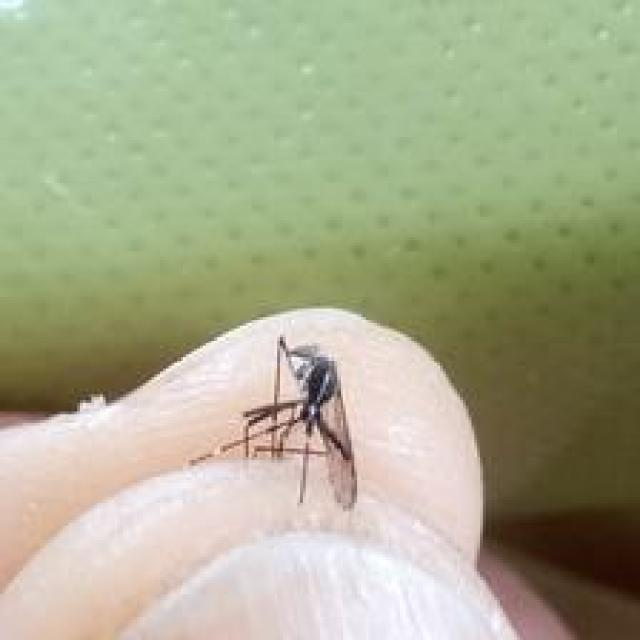Aedes albopictus: (187, 333, 359, 513)
